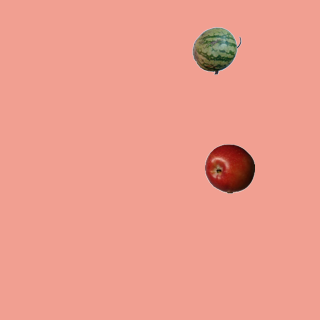Apple Braeburn: (204, 143, 254, 193)
Watermelon: (191, 25, 241, 75)
